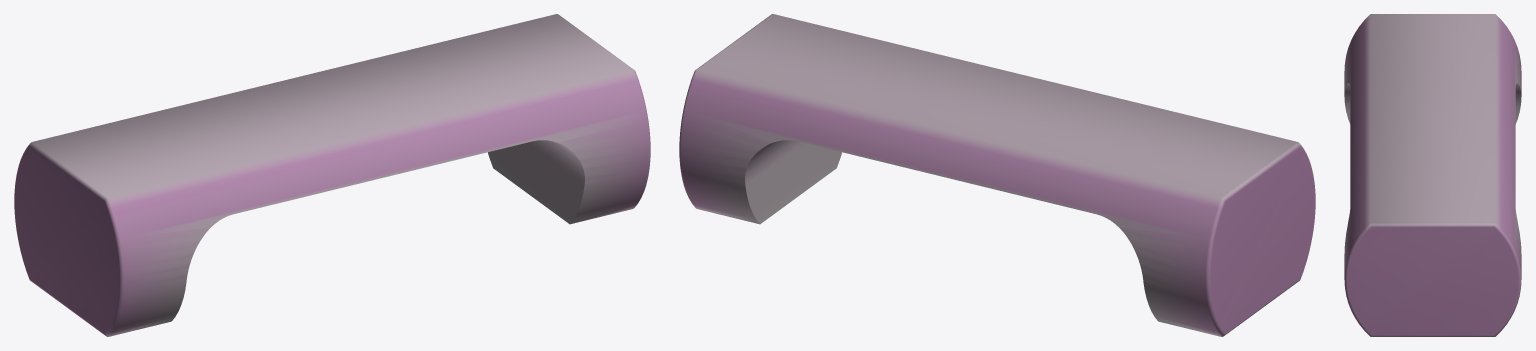
3 views of the same model, side by side, from view 1: azimuth 30°, elevation 25°; view 2: azimuth 150°, elevation 25°; view 3: azimuth 270°, elevation 25° (orthographic). The views are drawn at different scales.
Visible parts, largest first — view 1: round_sides; view 2: round_sides; view 3: round_sides.
Part boxes in pixels (<box>): round_sides: <box>14,14,650,336</box>; round_sides: <box>679,14,1315,336</box>; round_sides: <box>1344,14,1521,336</box>.
Bounding box in the file's own units: 1.8 × 0.4501 × 0.6364.
